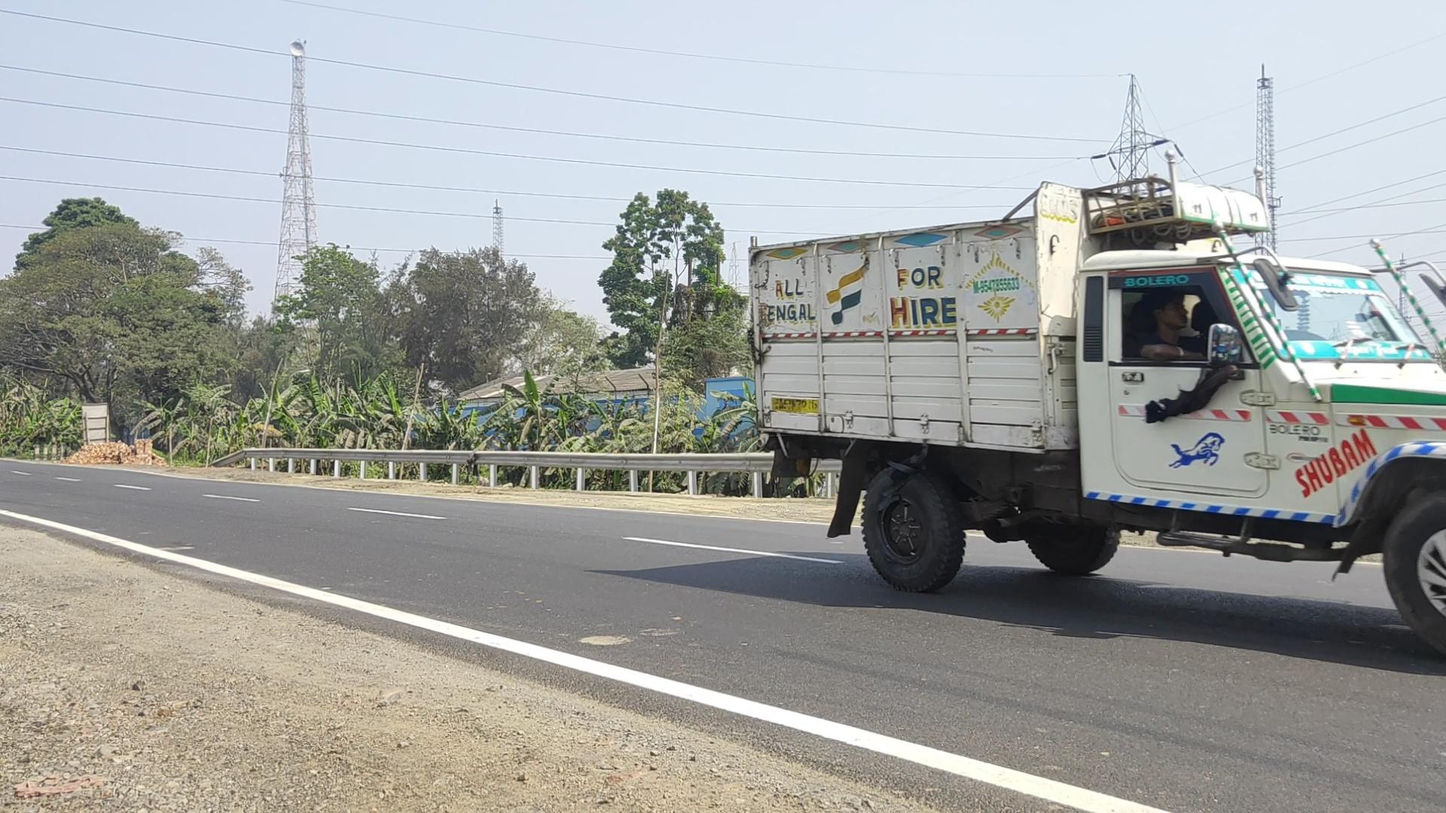van: (749, 150, 1446, 662)
